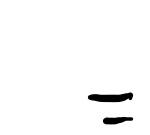eqv: (85, 86, 137, 126)
